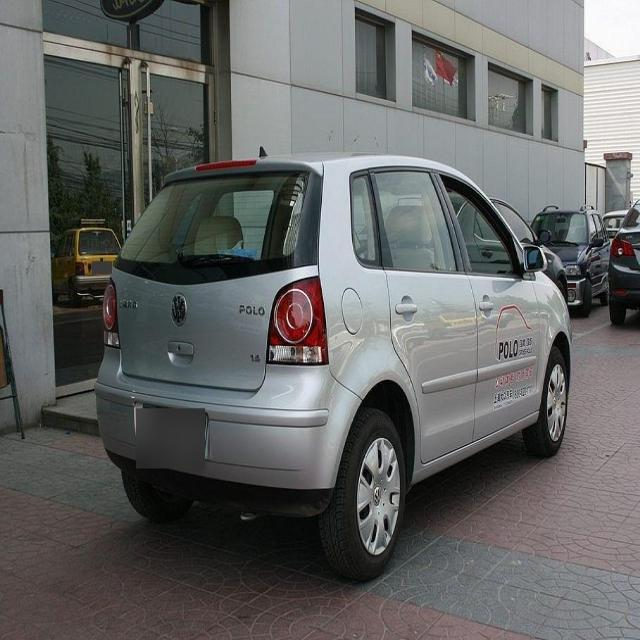back_glass: (118, 168, 322, 266)
back_left_side_light: (100, 277, 122, 349)
back_right_side_light: (264, 274, 332, 368)
front_right_side_door: (439, 173, 542, 450)
front_right_side_mirror: (522, 243, 548, 279)
rear_bumper: (96, 368, 364, 492)
wheel: (324, 408, 407, 583), (524, 348, 570, 456)
